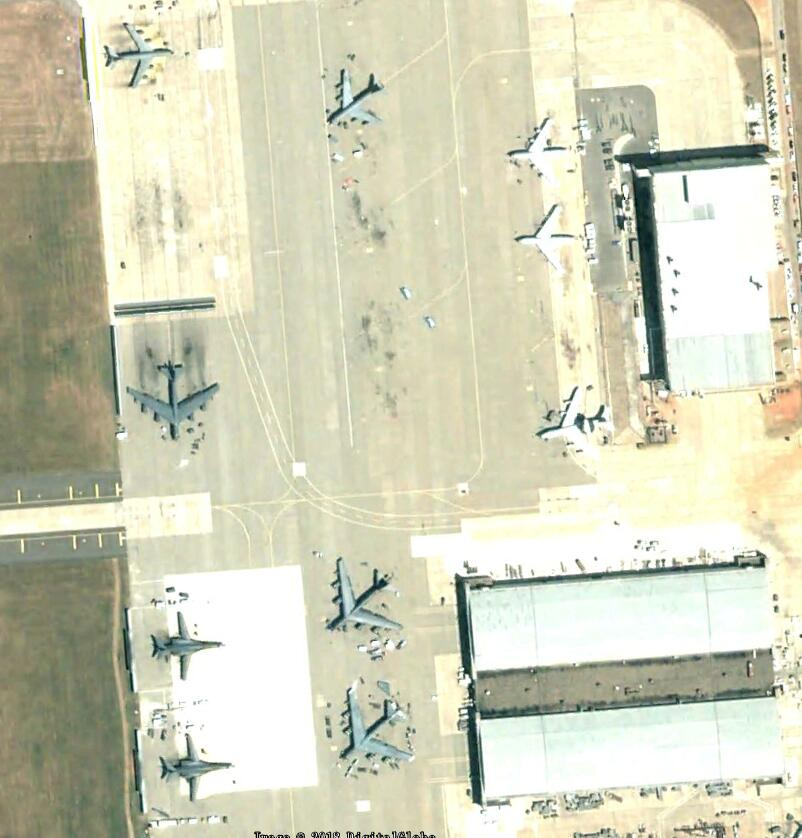A10: (159, 732, 235, 803), (153, 611, 225, 679)
A11: (507, 115, 582, 186), (516, 202, 589, 271)
A14: (105, 21, 174, 88), (327, 68, 393, 130)
A7: (543, 384, 611, 473)
A8: (127, 361, 222, 439), (327, 557, 406, 636), (340, 687, 419, 766)
